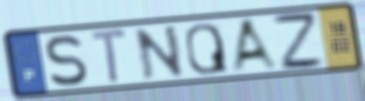A: (229, 15, 283, 73)
N: (132, 23, 187, 82)
Q: (183, 21, 231, 77)
S: (43, 33, 90, 89)
T: (88, 26, 130, 87)
Z: (269, 12, 328, 73)
